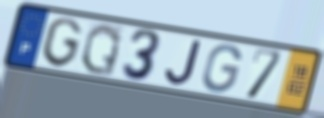3: (120, 28, 164, 84)
7: (245, 47, 284, 102)
G: (39, 16, 84, 70), (201, 42, 244, 95)
J: (164, 38, 204, 87)
Q: (78, 22, 124, 79)
